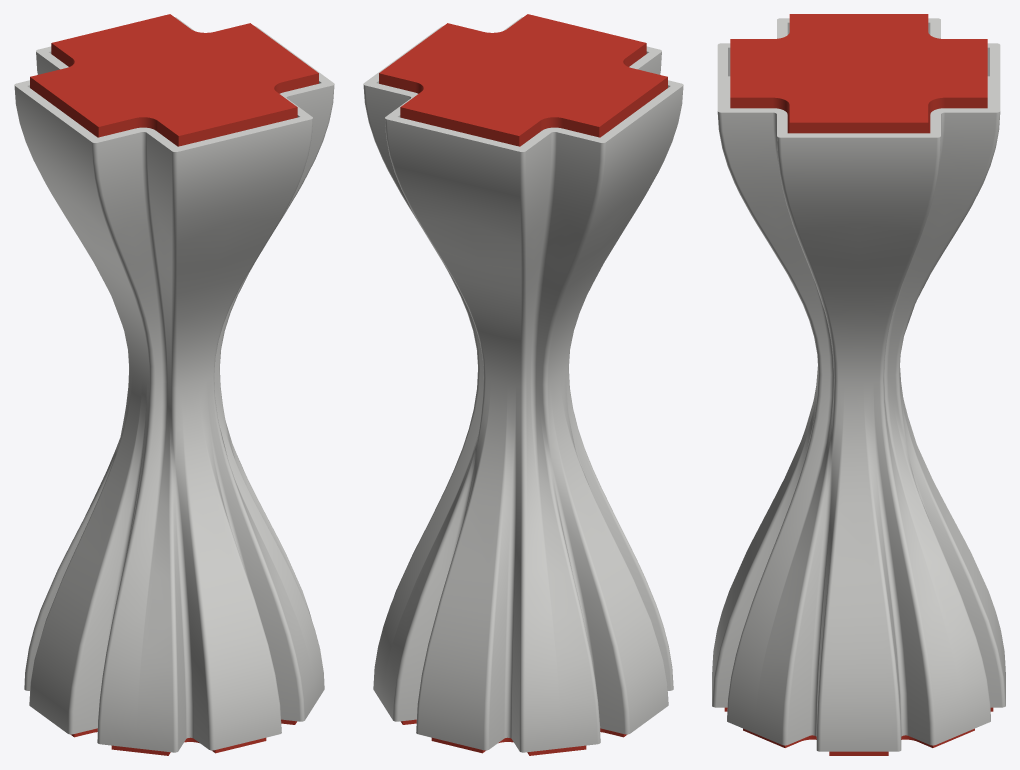
Rendered from HOUR-GLASS-PLUS5 v1.fbx.
3 renders of one model, left to right at view 1: azimuth 30°, elevation 25°; view 2: azimuth 150°, elevation 25°; view 3: azimuth 270°, elevation 25°, orthographic.
Visible parts, largest first — view 1: Body1, Body3, Body2; view 2: Body1, Body3, Body2; view 3: Body1, Body3, Body2.
Boxes of the visible parts, <box> form: Body1: <box>14,17,334,752</box>; Body3: <box>30,14,318,146</box>; Body2: <box>70,719,297,755</box>; Body1: <box>363,17,683,752</box>; Body3: <box>379,14,667,146</box>; Body2: <box>400,719,627,755</box>; Body1: <box>712,18,1005,751</box>; Body3: <box>730,14,987,133</box>; Body2: <box>724,707,993,755</box>.
Size of the model in its own units: 27.86 by 66 by 27.86.
